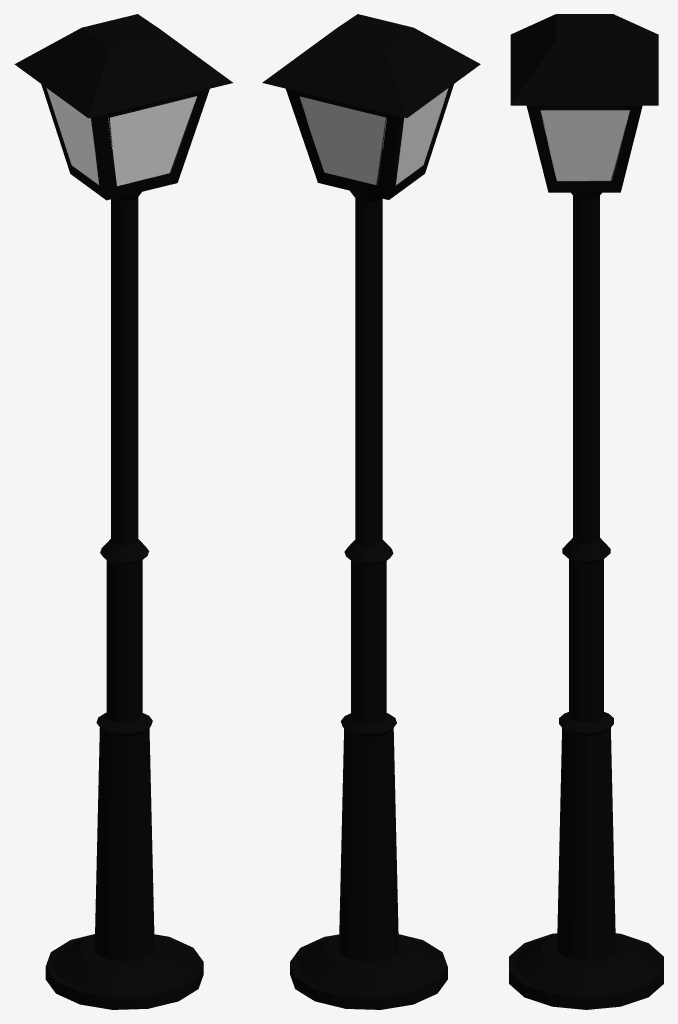
The model's file is gaitou.fbx.
3 renders of one model, left to right at view 1: azimuth 30°, elevation 25°; view 2: azimuth 150°, elevation 25°; view 3: azimuth 270°, elevation 25°, orthographic.
Parts seen in each view (by area): view 1: pCylinder1, polySurface1, polySurface2; view 2: pCylinder1, polySurface1, polySurface2; view 3: pCylinder1, polySurface1, polySurface2.
Boxes of the visible parts, bbox=[...] form: pCylinder1: bbox=[45, 192, 203, 1009]; polySurface1: bbox=[14, 14, 232, 200]; polySurface2: bbox=[46, 88, 197, 186]; pCylinder1: bbox=[290, 190, 447, 1009]; polySurface1: bbox=[262, 14, 480, 199]; polySurface2: bbox=[298, 88, 448, 185]; pCylinder1: bbox=[509, 192, 663, 1009]; polySurface1: bbox=[510, 14, 658, 192]; polySurface2: bbox=[539, 109, 630, 181].
Bounding box in the file's own units: 1.7 × 1.57 × 10.6.
Materials: 3 (1 with a texture image).
